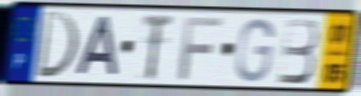A: (73, 14, 120, 78)
B: (276, 16, 320, 86)
D: (34, 9, 81, 81)
F: (177, 16, 225, 83)
G: (234, 16, 277, 85)
T: (140, 12, 176, 83)
